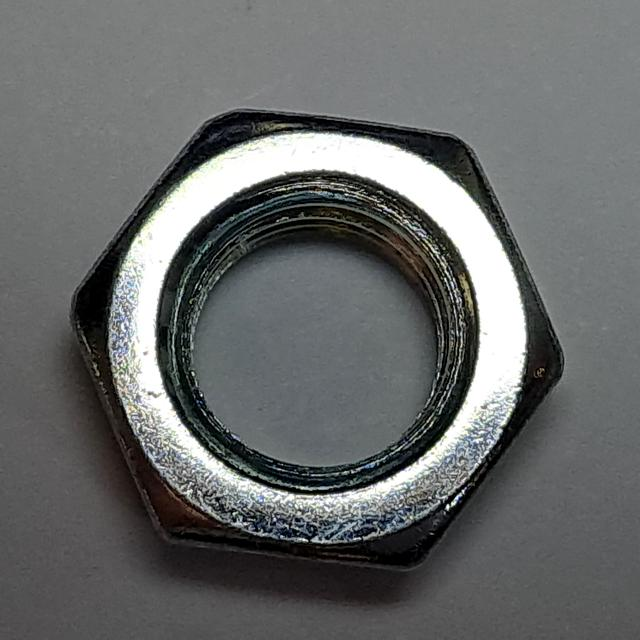Excellent: (57, 85, 580, 587)
